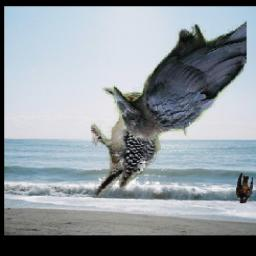Crow: (113, 21, 248, 142)
Swallow: (236, 173, 254, 204)
Woodpecker: (92, 85, 164, 201)
